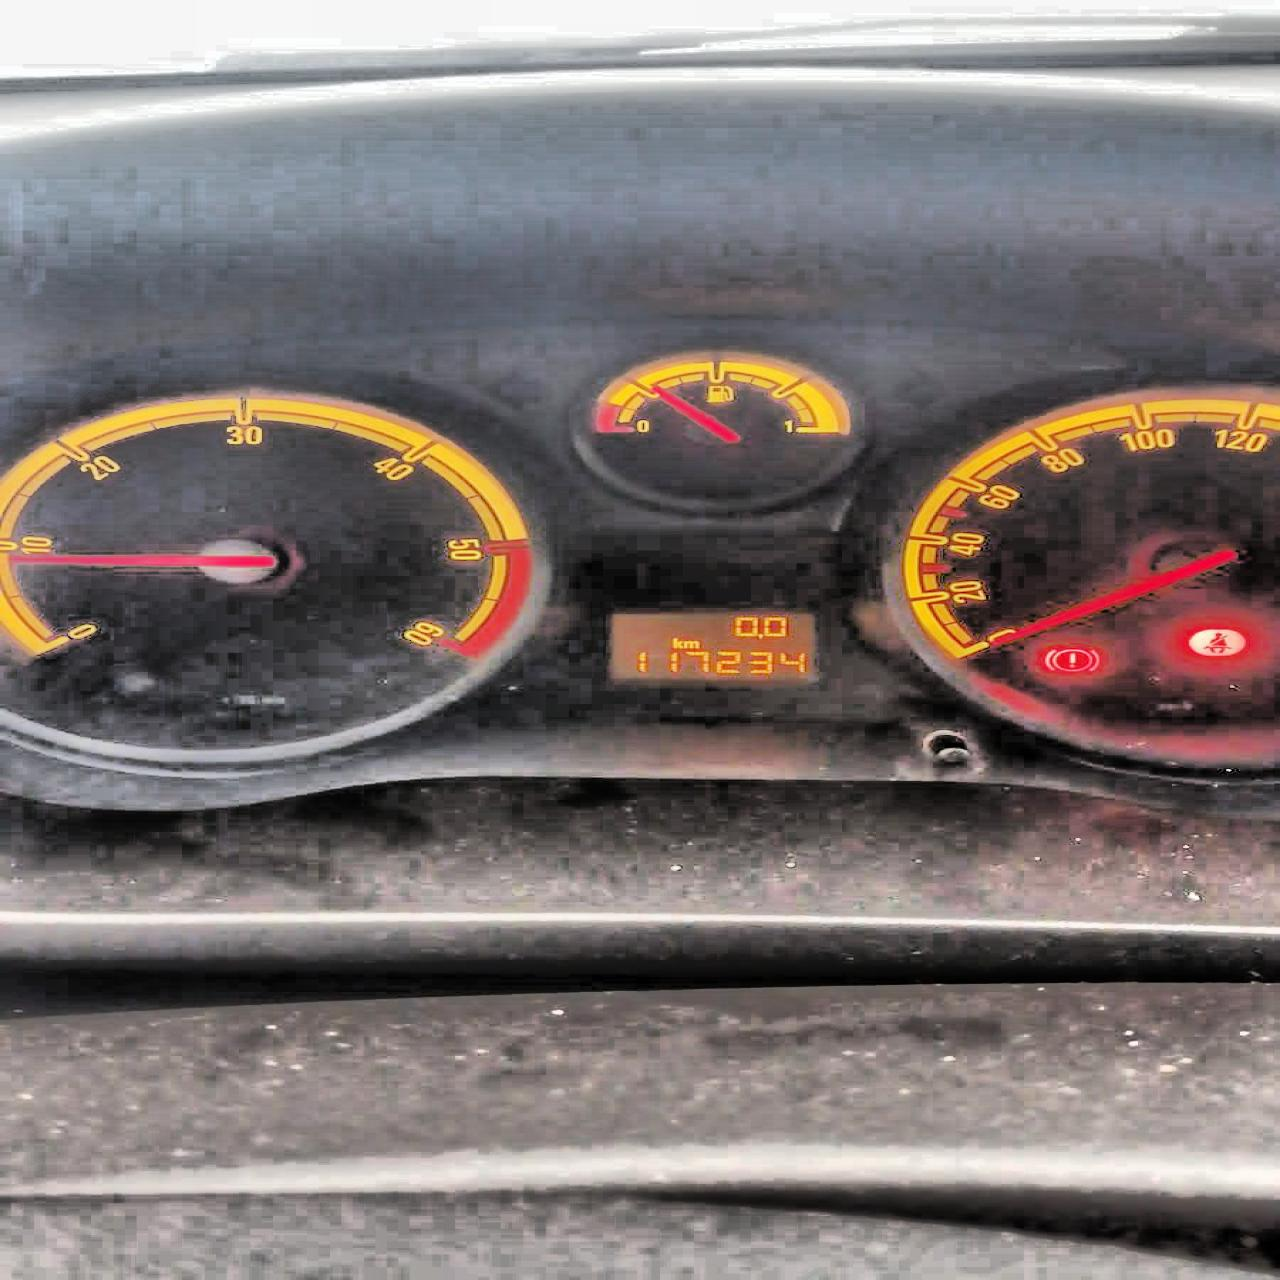-: (756, 633, 763, 640)
0: (761, 617, 787, 636), (733, 617, 757, 636)
1: (634, 651, 647, 672), (667, 651, 679, 672)
2: (714, 651, 741, 673)
3: (747, 652, 772, 673)
4: (778, 651, 805, 672)
7: (682, 651, 709, 672)
X: (681, 639, 700, 648), (670, 636, 683, 649)
odometer: (606, 611, 819, 681)
